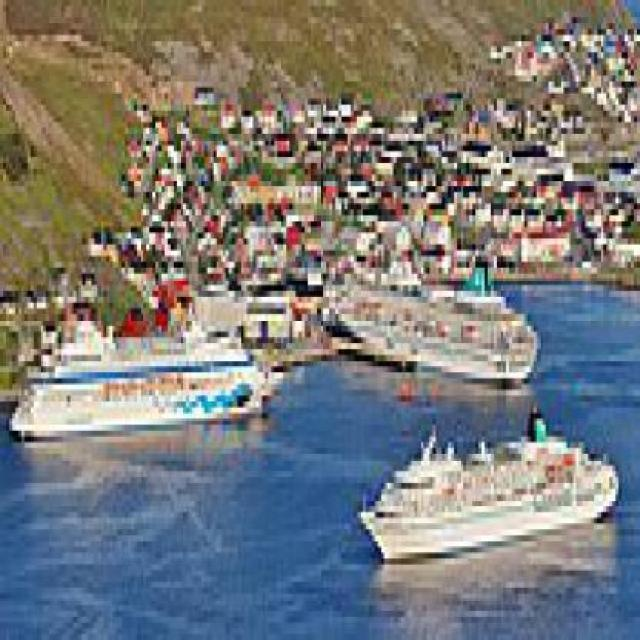cruise: (4, 292, 293, 461), (355, 408, 629, 571)
